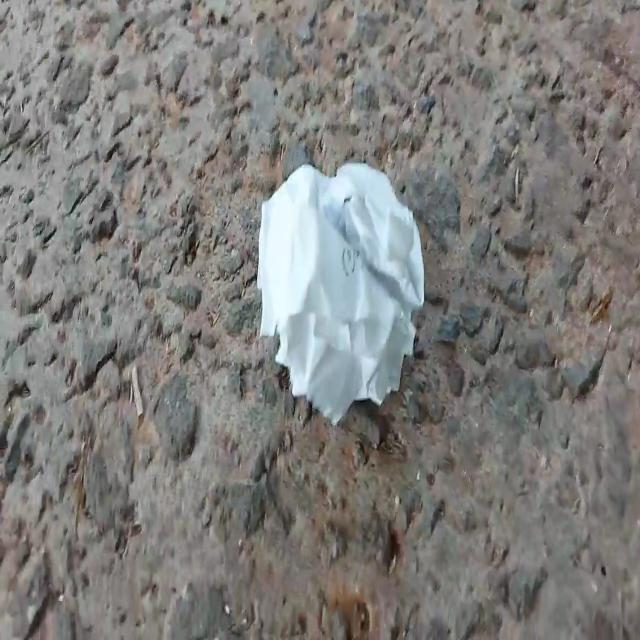Paper: (239, 135, 445, 433)
